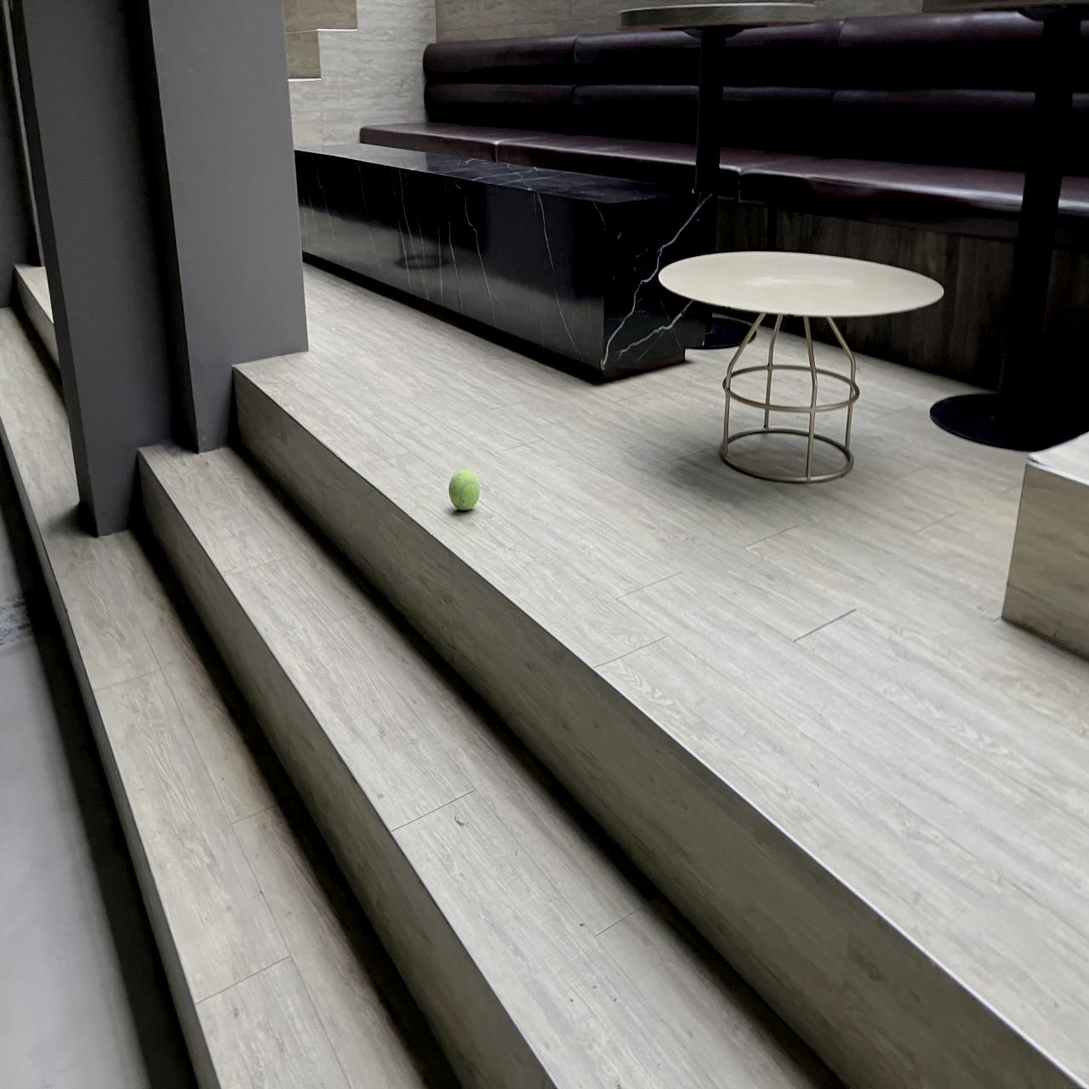tennisball: (449, 470, 480, 510)
